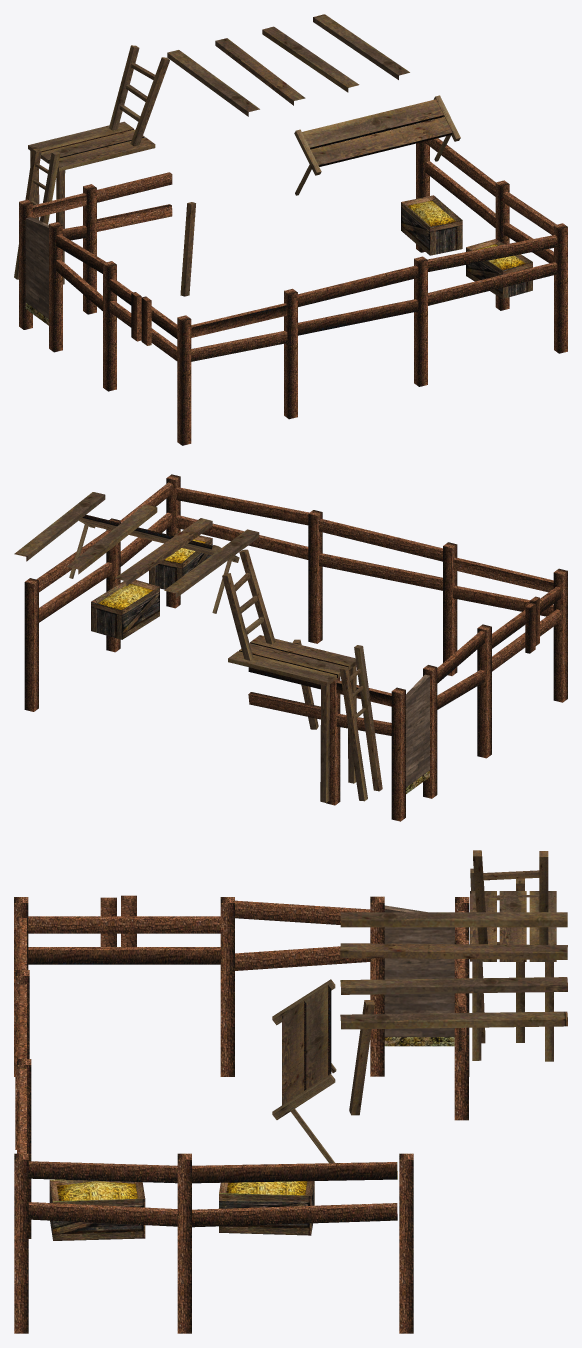
The model's file is kart_corral_fence.glb.
The picture shows the model from 3 angles, top to bottom: view 1: azimuth 30°, elevation 25°; view 2: azimuth 150°, elevation 25°; view 3: azimuth 270°, elevation 25°; orthographic projection. The views are drawn at different scales.
Visible parts, largest first — view 1: Fence; view 2: Fence; view 3: Fence.
Part boxes in pixels (bbox=[...]): Fence: bbox=[14, 14, 567, 445]; Fence: bbox=[14, 474, 567, 821]; Fence: bbox=[14, 850, 567, 1333].
Bounding box in the file's own units: 15.96 × 8.93 × 13.98.
1 material, 1 textured.
